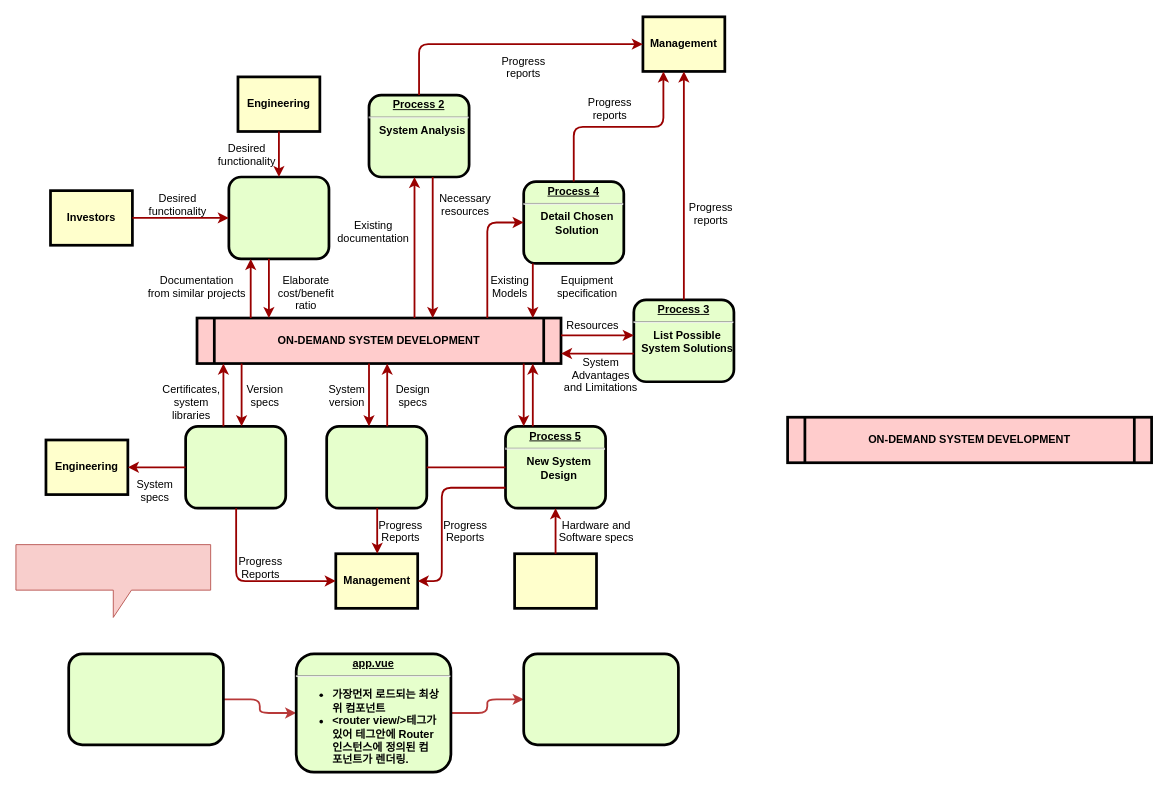
The diagram is 1168 pixels wide and 789 high, and some of its shapes have lost their labels. The box of each missing label's shape, as (x1, y1, x2, y2) in pixels:
main.js vue 라이브러리 App.vue 로드 webpack 번들링 시 파일간의 관계 파악: (522, 652, 679, 746)
main.js vue 라이브러리 import App.vue 로드 webpack 번들링 시 파일간의 관계 파악: (67, 652, 224, 746)
Process 1 System Study Preparation: (227, 175, 330, 260)
Process 6 New System Construction: (184, 425, 287, 509)
Process 7 New System Startup and Testing: (325, 425, 428, 509)
Vendors: (513, 552, 597, 609)
